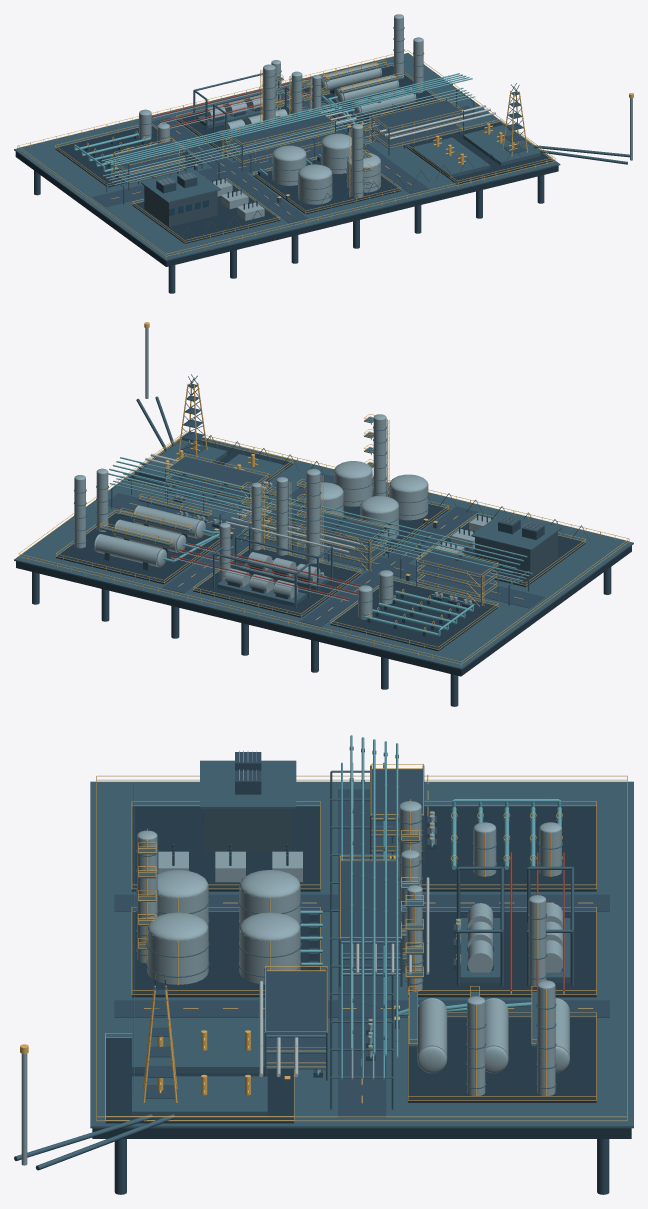
File: plant-model.glb
The picture shows the model from 3 angles, top to bottom: view 1: azimuth 30°, elevation 25°; view 2: azimuth 150°, elevation 25°; view 3: azimuth 270°, elevation 25°; orthographic projection. The views are drawn at different scales.
Parts seen in each view (by area): view 1: Plant equipment (×51); view 2: Plant equipment (×44); view 3: Plant equipment (×60).
Boxes of the visible parts, x1,y1,x2,y2 form: Plant equipment (×51): (14,17,560,266); Plant equipment (×44): (14,417,633,676); Plant equipment (×60): (14,735,633,1194).
Bounding box in the file's own units: 213 × 55.83 × 141.
